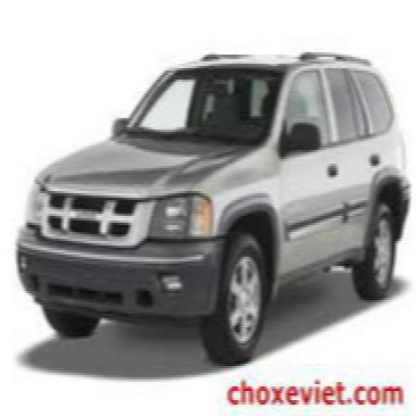Vehicle: (11, 50, 414, 375)
